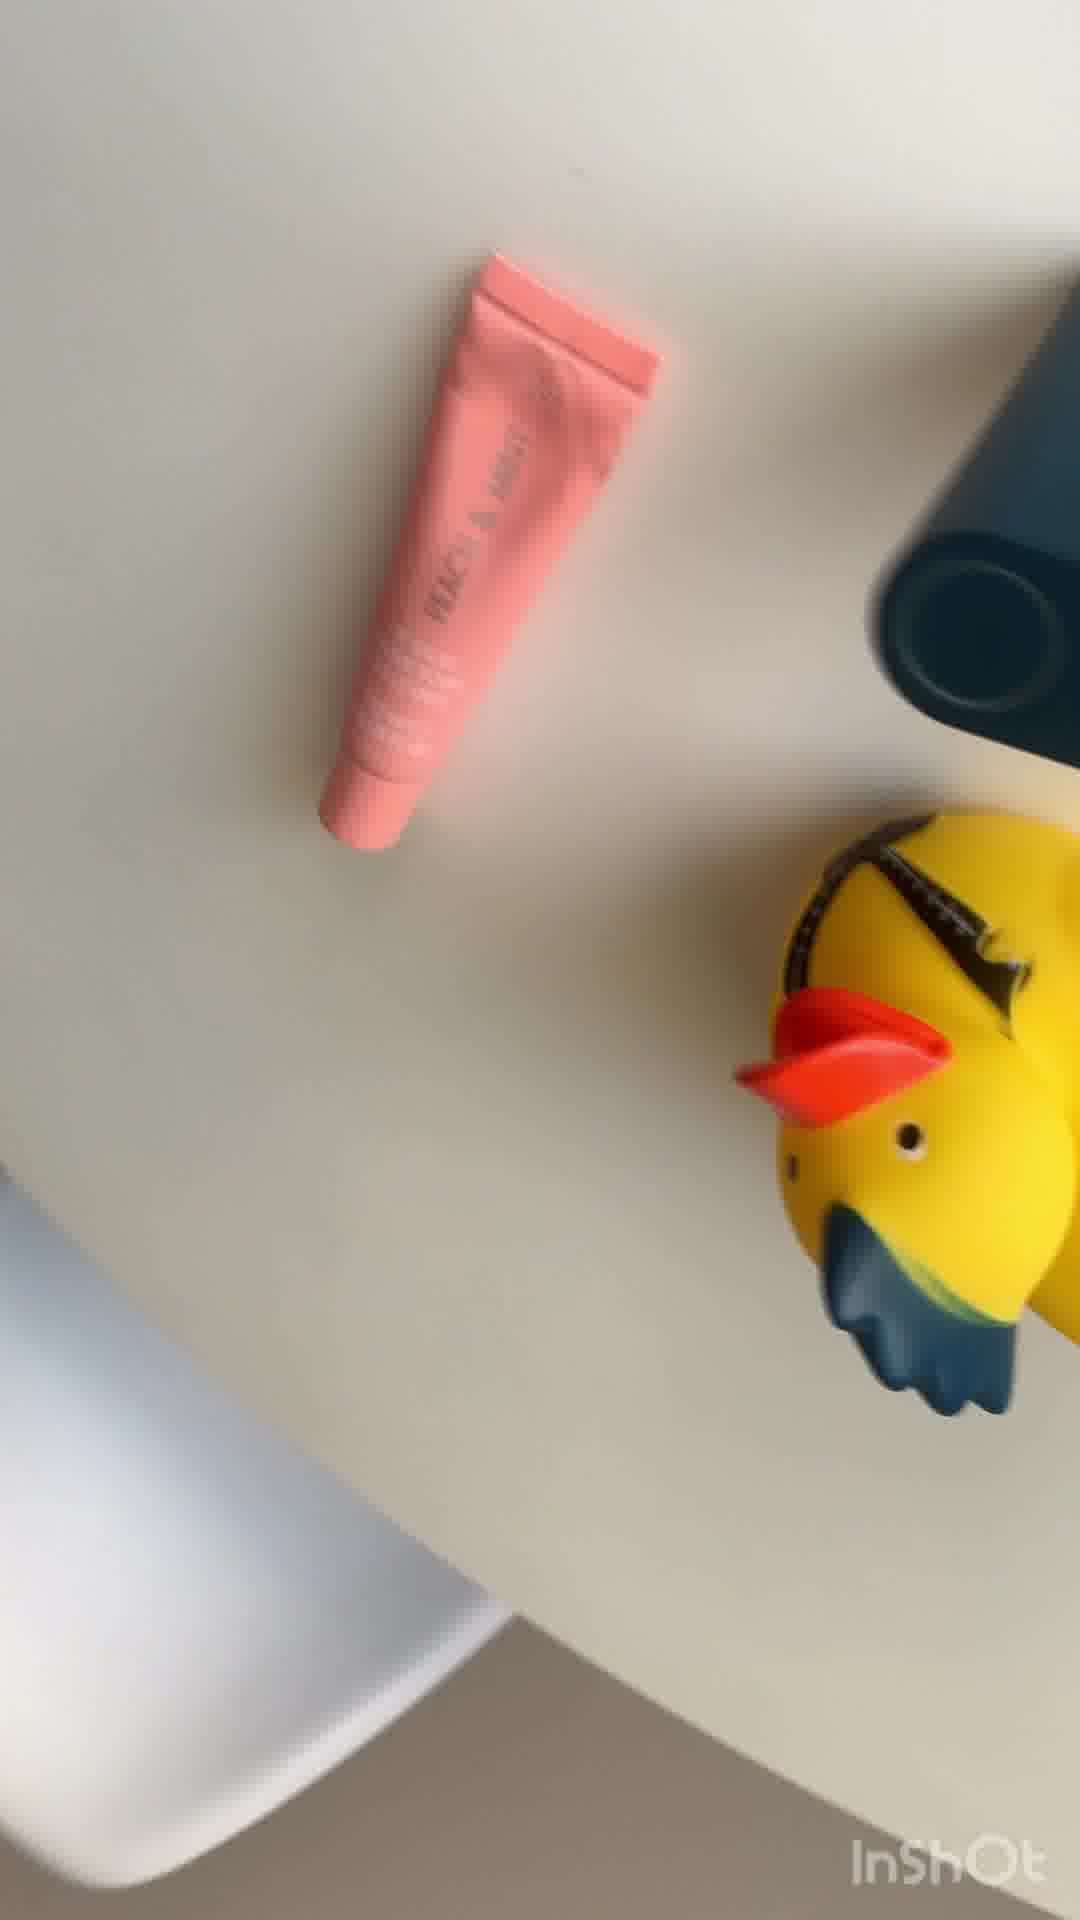duck: (749, 804, 1080, 1416)
glo: (862, 269, 1080, 769)
lip balm: (313, 249, 669, 877)
